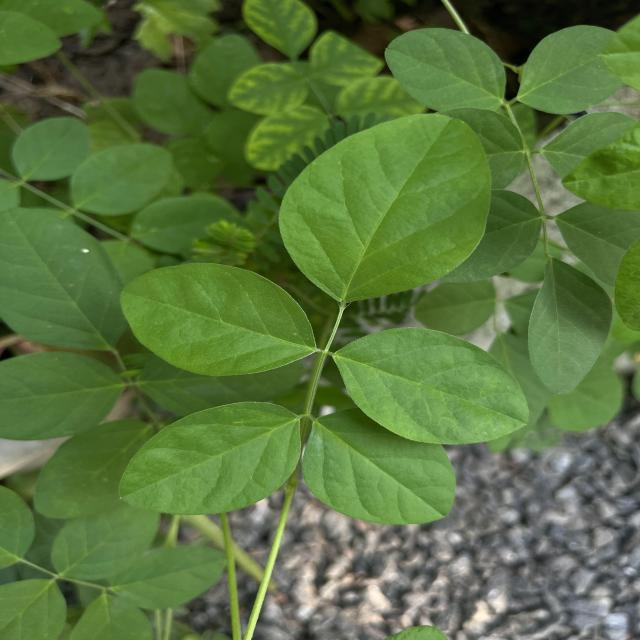Clitoria ternatea: (276, 111, 494, 304), (332, 324, 532, 446), (118, 260, 318, 378), (118, 400, 302, 516), (300, 408, 458, 526)
